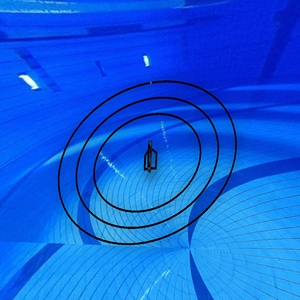circle: (56, 78, 241, 248)
submarine: (137, 139, 161, 176)
